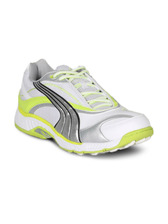shoes: (13, 60, 157, 153)
